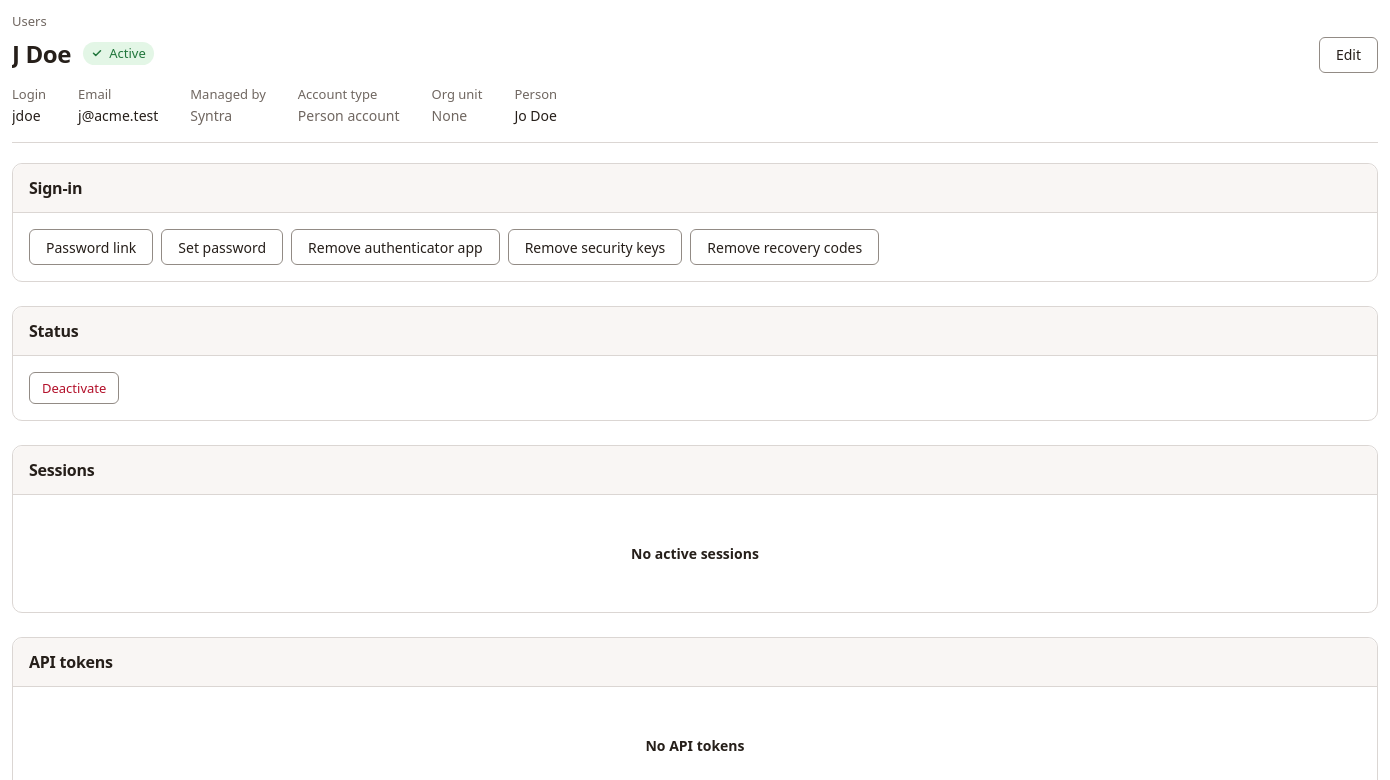
Test: AccountDetailPage › password setup link › shows the generated link without following it
The width and height of the screenshot is (1390, 780).
Check: the heading "J Doe" is shown, box x1=12 y1=37 x2=71 y2=70
What coordinates should you click on to do the following:
click the button "Password link"
I would click on:
 (91, 247)
Its box is x1=29 y1=229 x2=153 y2=265.
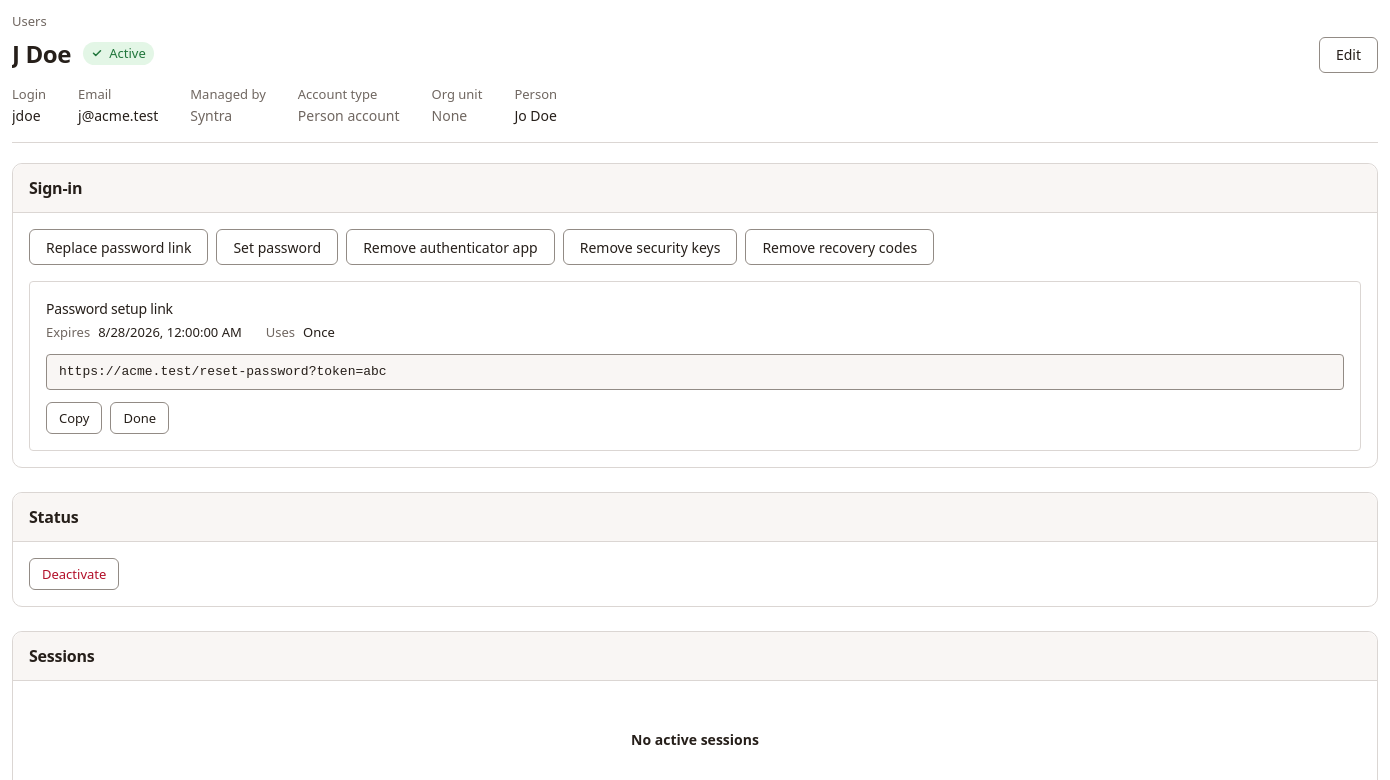
Check: the field named "password setup link" holds "https://acme.test/reset-password?token=abc", box x1=46 y1=354 x2=1344 y2=390
